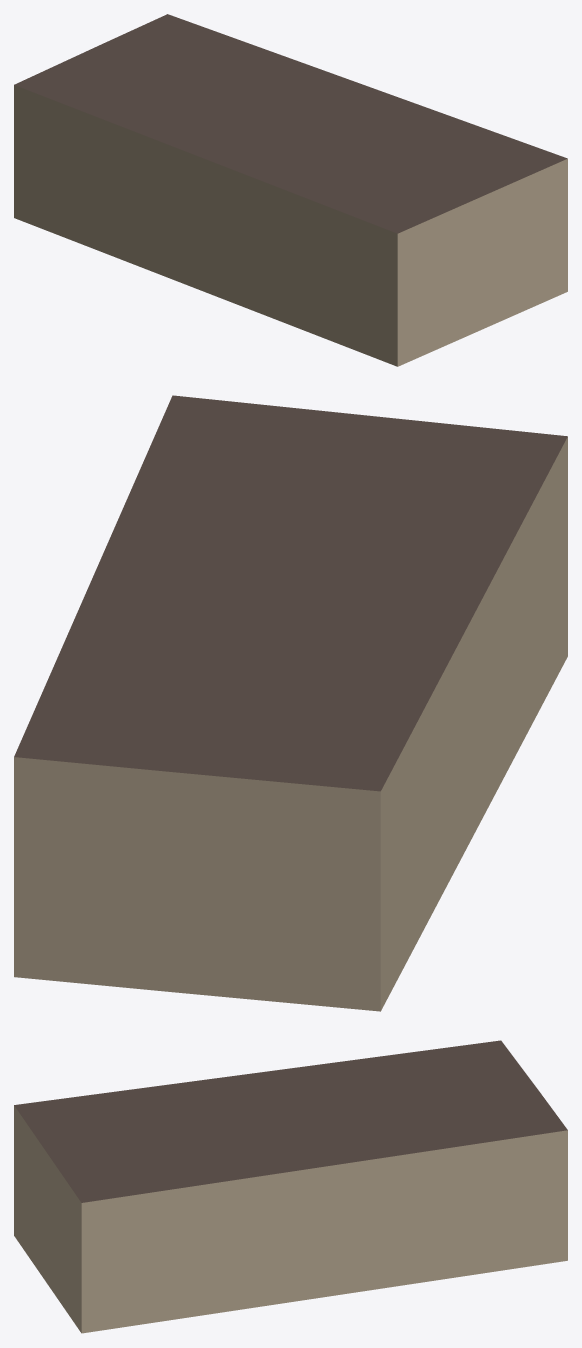
3 renders of one model, top to bottom at view 1: azimuth 30°, elevation 25°; view 2: azimuth 150°, elevation 25°; view 3: azimuth 270°, elevation 25°, orthographic. The views are drawn at different scales.
Visible parts, largest first — view 1: HP-w1196401635; view 2: HP-w1196401635; view 3: HP-w1196401635.
Boxes of the visible parts, x1=… form: HP-w1196401635: x1=14, y1=14, x2=567, y2=366; HP-w1196401635: x1=14, y1=395, x2=567, y2=1011; HP-w1196401635: x1=14, y1=1040, x2=567, y2=1333.
Size of the model in its own units: 24.05 by 9 by 34.63.
